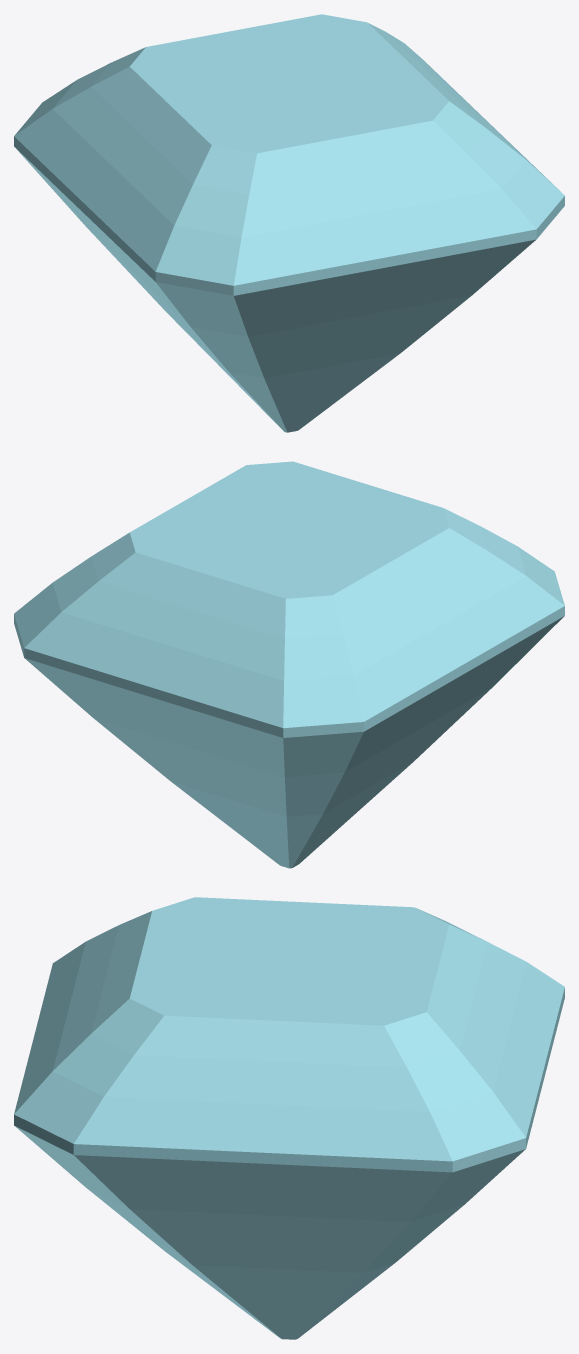
File: jewelry.glb
The picture shows the model from 3 angles, top to bottom: view 1: azimuth 30°, elevation 25°; view 2: azimuth 150°, elevation 25°; view 3: azimuth 270°, elevation 25°; orthographic projection. The views are drawn at different scales.
Parts seen in each view (by area): view 1: Gemstone Aquamarine; view 2: Gemstone Aquamarine; view 3: Gemstone Aquamarine.
Part boxes in pixels (x1=…): Gemstone Aquamarine: x1=14, y1=14, x2=564, y2=432; Gemstone Aquamarine: x1=14, y1=461, x2=564, y2=868; Gemstone Aquamarine: x1=14, y1=897, x2=564, y2=1339.
Size of the model in its own units: 2.16 by 1.7 by 2.27.
